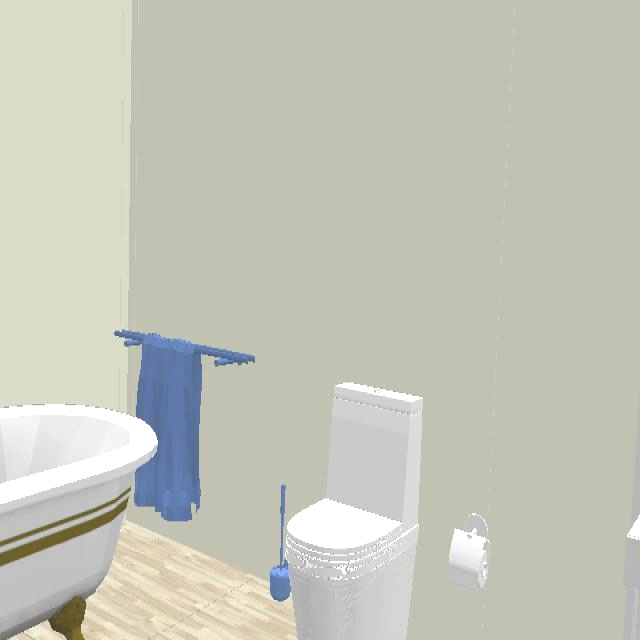bathtube: (0, 404, 158, 640)
toilet: (286, 383, 424, 640)
